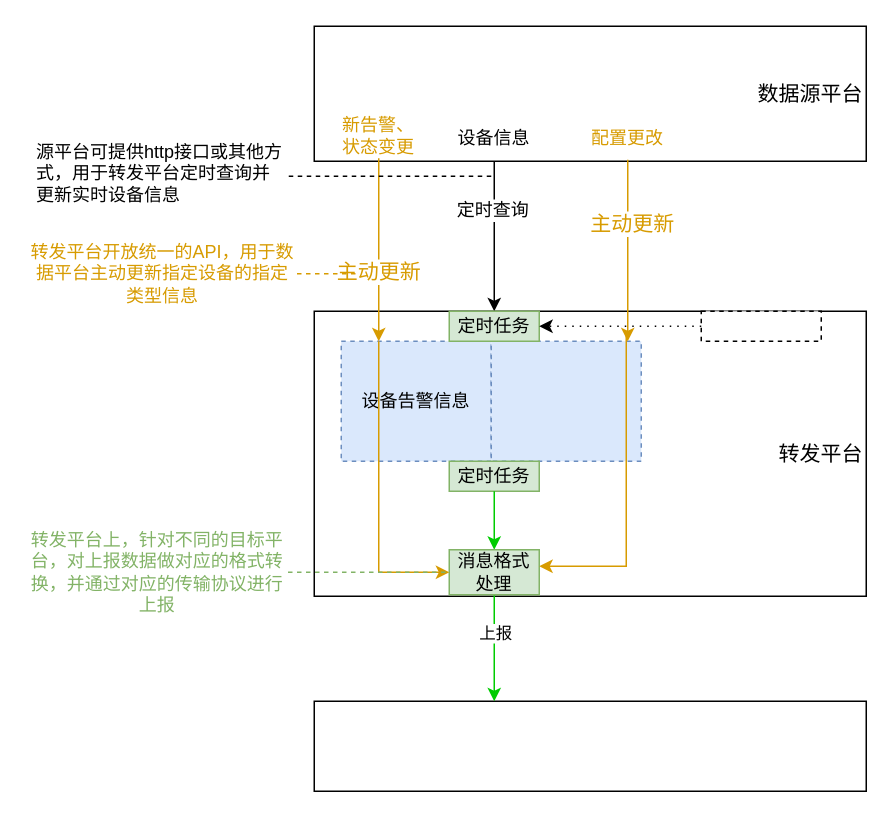
Image size: 893x818. Some labels were removed from this diagram. Each missing label, with the centre of its shape:
"其他平台" goes at point 589,745.
"设备配置信息" goes at point 565,400.
"转发设备列表" goes at point 760,325.
